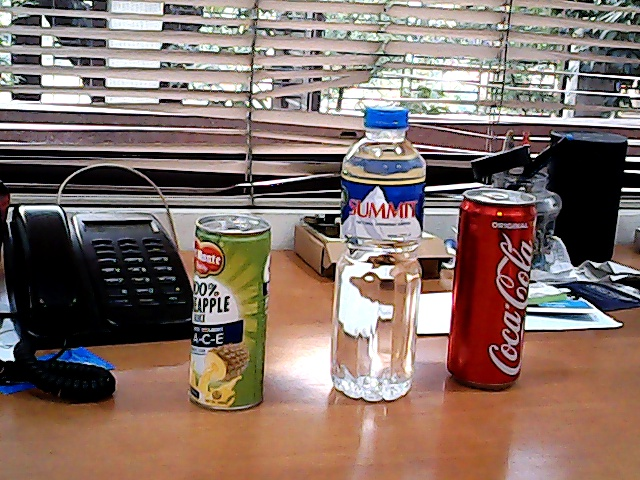Cola: (432, 181, 555, 403)
Pine Juice: (172, 205, 293, 424)
Summit Water: (316, 98, 439, 419)
